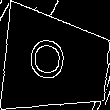O_E: (34, 38, 78, 88)
